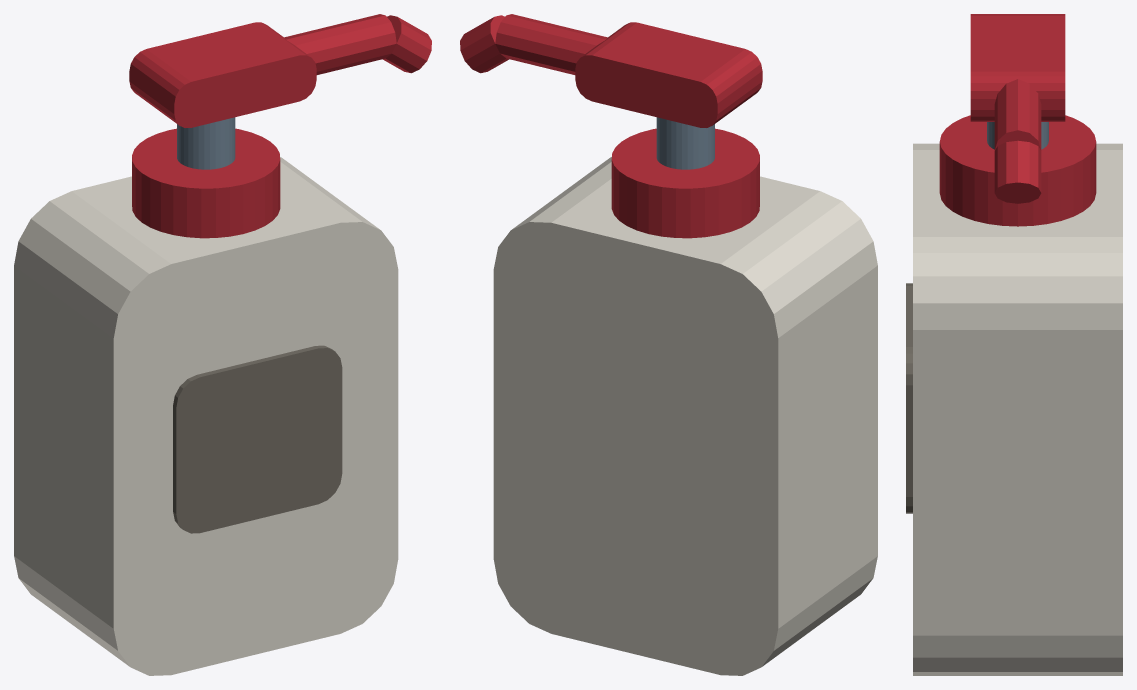
File: pump.glb
The picture shows the model from 3 angles, left to right: view 1: azimuth 30°, elevation 25°; view 2: azimuth 150°, elevation 25°; view 3: azimuth 270°, elevation 25°; orthographic projection. The views are drawn at different scales.
Visible parts, largest first — view 1: bottle body, label, pump head, neck, spout0, piston, spout1; view 2: bottle body, pump head, neck, spout0, piston, spout1; view 3: bottle body, neck, pump head, spout1, spout0, label, piston.
Boxes of the visible parts, left/top/right/bottom form: bottle body: left=14, top=157, right=398, bottom=675; label: left=173, top=345, right=342, bottom=533; pump head: left=129, top=22, right=316, bottom=127; neck: left=132, top=128, right=280, bottom=238; spout0: left=284, top=14, right=396, bottom=74; piston: left=177, top=117, right=235, bottom=169; spout1: left=383, top=15, right=431, bottom=73; bottle body: left=493, top=157, right=877, bottom=675; pump head: left=575, top=22, right=762, bottom=127; neck: left=611, top=128, right=759, bottom=238; spout0: left=495, top=14, right=607, bottom=74; piston: left=656, top=117, right=714, bottom=169; spout1: left=460, top=15, right=508, bottom=73; bottle body: left=913, top=143, right=1122, bottom=675; neck: left=939, top=115, right=1096, bottom=226; pump head: left=970, top=14, right=1065, bottom=121; spout1: left=994, top=140, right=1041, bottom=203; spout0: left=994, top=79, right=1041, bottom=150; label: left=906, top=283, right=912, bottom=513; piston: left=987, top=122, right=1048, bottom=149.
Size of the model in its own units: 1.07 by 1.58 by 0.527.
